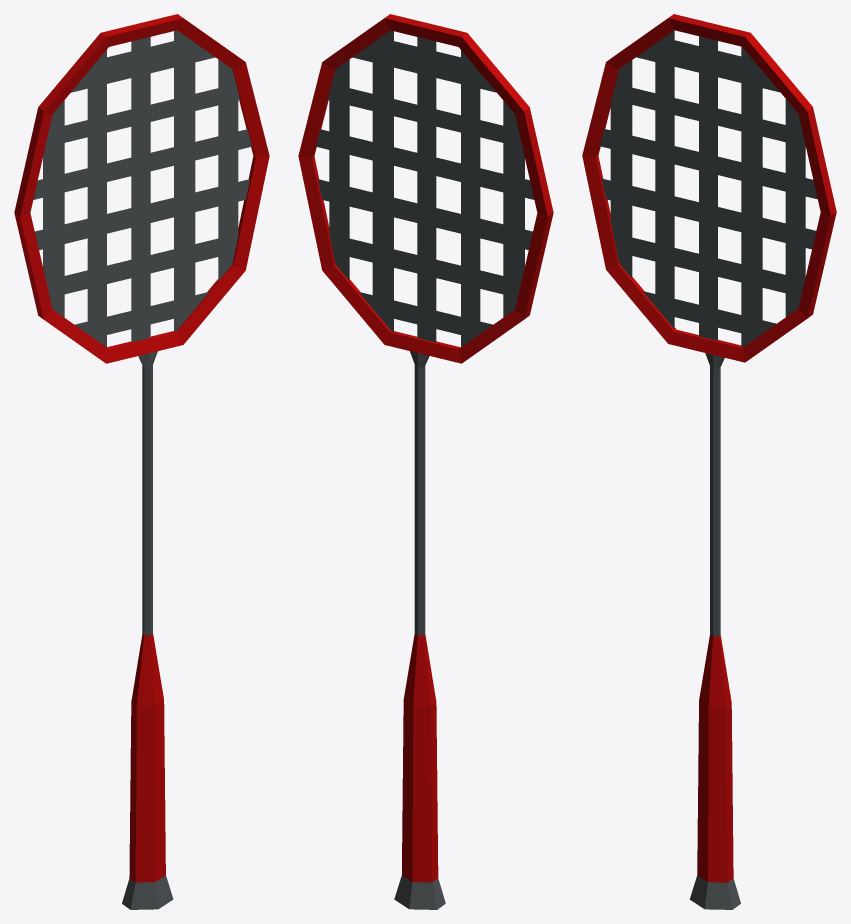
The model's file is Badminton_racket_red.fbx.
3 views of the same model, side by side, from view 1: azimuth 30°, elevation 25°; view 2: azimuth 150°, elevation 25°; view 3: azimuth 330°, elevation 25° (orthographic).
Visible parts, largest first — view 1: Badminton_racket_red; view 2: Badminton_racket_red; view 3: Badminton_racket_red.
Boxes of the visible parts, bbox=[...] form: Badminton_racket_red: bbox=[14, 14, 269, 909]; Badminton_racket_red: bbox=[298, 14, 553, 909]; Badminton_racket_red: bbox=[582, 14, 836, 909].
Size of the model in its own units: 26.05 by 87.53 by 3.86.
